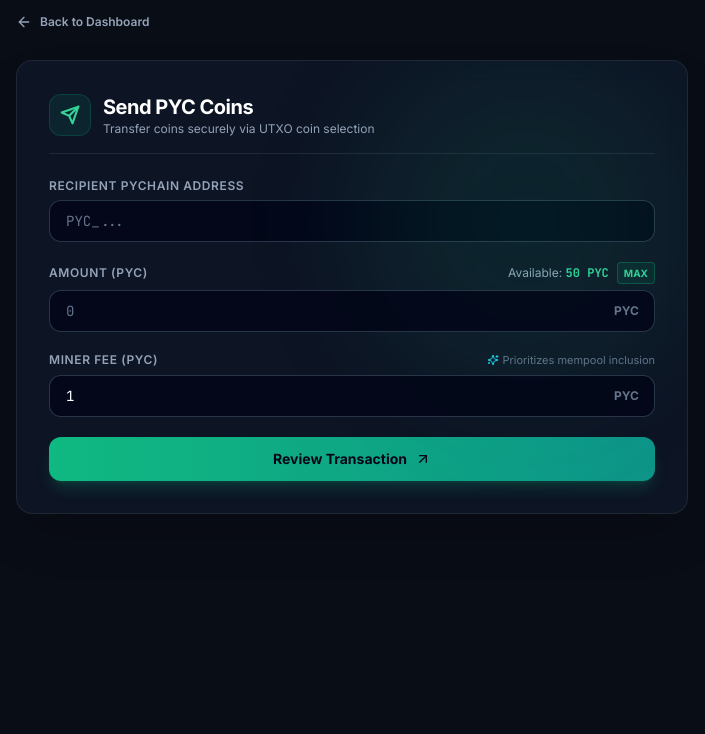
Test case: SendPage › validates invalid recipient address format
The image size is (705, 734).
Expected: the text "50 PYC" is shown, [566,265,609,281]
Type "invalid_address_123" into the field labelled "Recipient PyChain Address" at (352, 221), box [49,200,655,242]
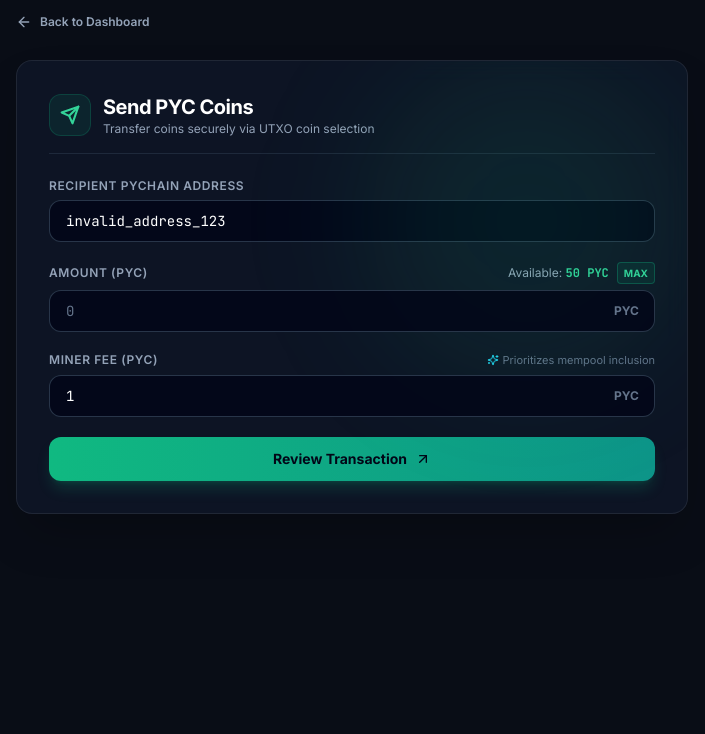
Type "10" into the number field labelled "Amount (PYC)" at (352, 311), box [49,290,655,332]
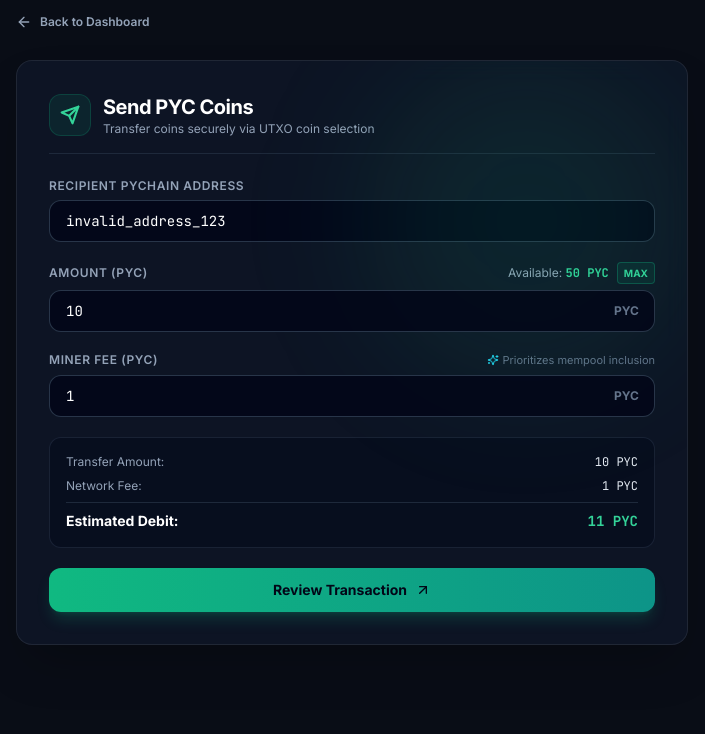
Click the button "Review Transaction" at (352, 590), box [49,568,655,612]
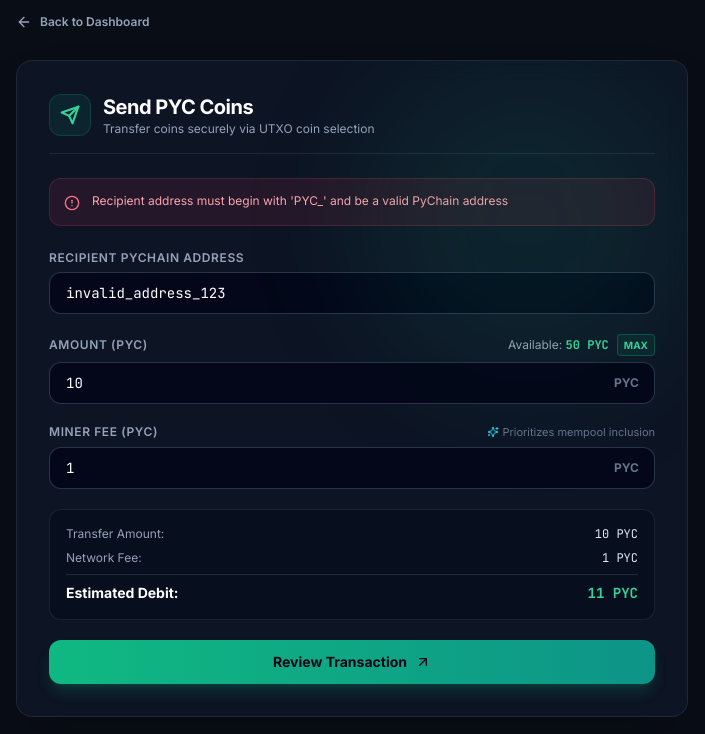
Now the text "Recipient address must begin with 'PYC_'" is shown, box [92,193,508,208]
